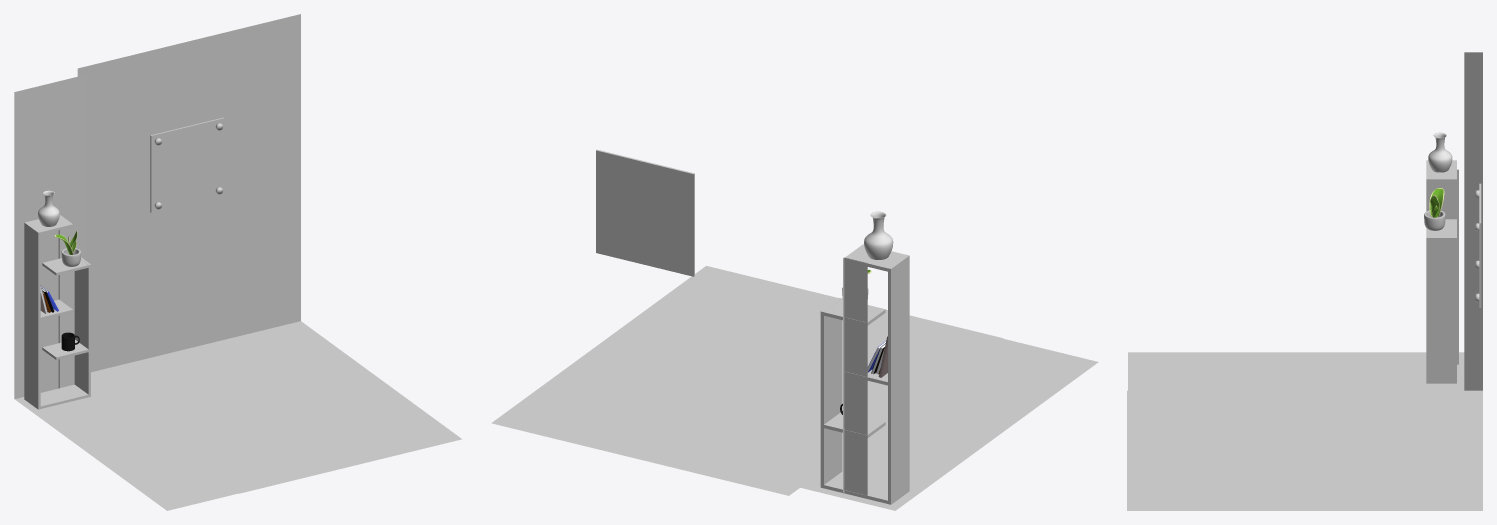
The model's file is acralic.glb.
3 views of the same model, side by side, from view 1: azimuth 30°, elevation 25°; view 2: azimuth 150°, elevation 25°; view 3: azimuth 270°, elevation 25° (orthographic). The views are drawn at different scales.
Visible parts, largest first — view 1: Plane, Plane.007, bookshelf_1, Plane.002, vase_vase.009; view 2: Plane.007, bookshelf_1, Cube.001, vase_vase.009; view 3: Plane.007, bookshelf_1, Plane, vase_vase.009.
Part boxes in pixels (x1,y1,x2,y2): Plane: [14, 14, 300, 375]; Plane.007: [14, 297, 461, 510]; bookshelf_1: [24, 215, 90, 409]; Plane.002: [151, 118, 224, 212]; vase_vase.009: [38, 190, 59, 226]; Plane.007: [491, 266, 1098, 510]; bookshelf_1: [820, 244, 909, 504]; Cube.001: [596, 149, 694, 276]; vase_vase.009: [864, 211, 893, 259]; Plane.007: [1127, 352, 1482, 510]; bookshelf_1: [1426, 160, 1458, 383]; Plane: [1464, 52, 1482, 364]; vase_vase.009: [1428, 132, 1452, 172].
Bounding box in the file's own units: 4.01 × 3.99 × 3.8.
5 materials, 1 textured.
